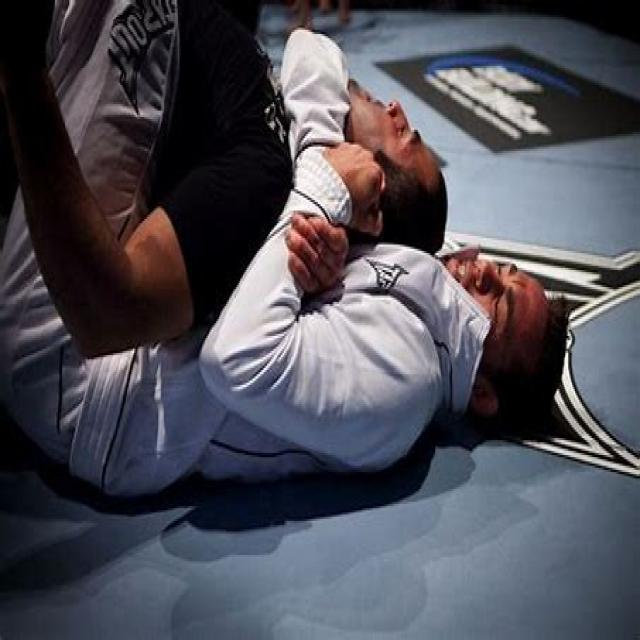fight: (56, 1, 626, 508)
